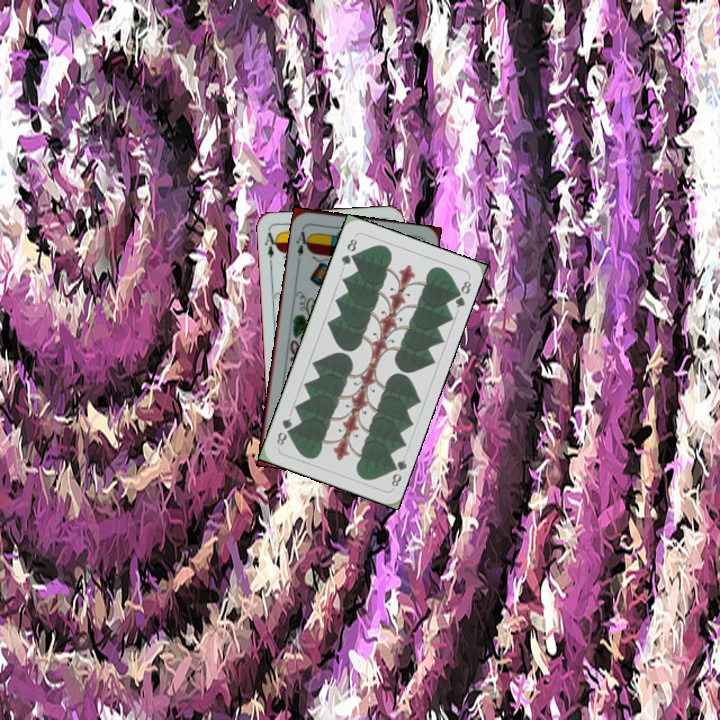EA: (292, 224, 313, 264), (260, 228, 280, 268)
G8: (385, 455, 409, 489), (337, 234, 360, 268)
